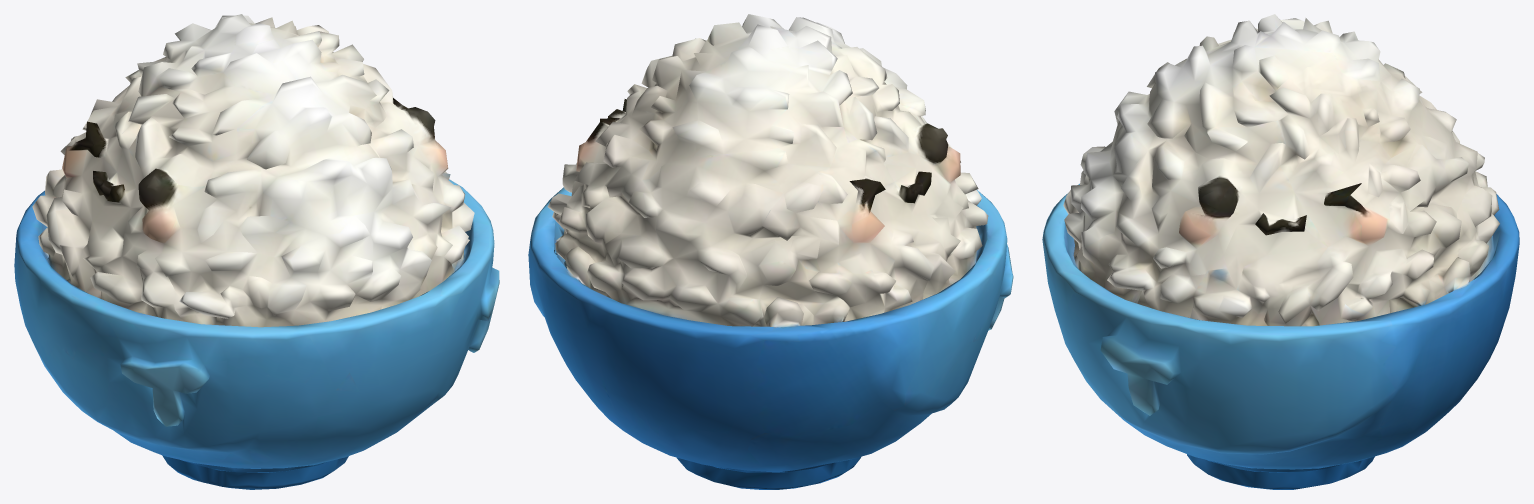
The model's file is ricebowl.glb.
3 renders of one model, left to right at view 1: azimuth 30°, elevation 25°; view 2: azimuth 150°, elevation 25°; view 3: azimuth 270°, elevation 25°, orthographic.
Visible parts, largest first — view 1: tripo_node_01a21d93-5c6b-7c56-b50b-1a1f675e3235; view 2: tripo_node_01a21d93-5c6b-7c56-b50b-1a1f675e3235; view 3: tripo_node_01a21d93-5c6b-7c56-b50b-1a1f675e3235.
Boxes of the visible parts, x1,y1,x2,y2 form: tripo_node_01a21d93-5c6b-7c56-b50b-1a1f675e3235: [14, 14, 499, 489]; tripo_node_01a21d93-5c6b-7c56-b50b-1a1f675e3235: [528, 14, 1013, 489]; tripo_node_01a21d93-5c6b-7c56-b50b-1a1f675e3235: [1042, 14, 1519, 489].
Size of the model in its own units: 0.9977 by 0.9825 by 1.
1 material, 1 textured.
